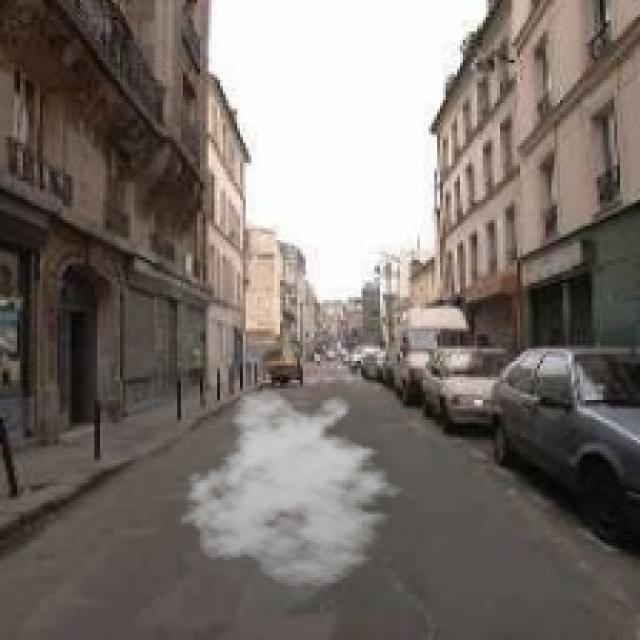smoke: (177, 388, 417, 588)
